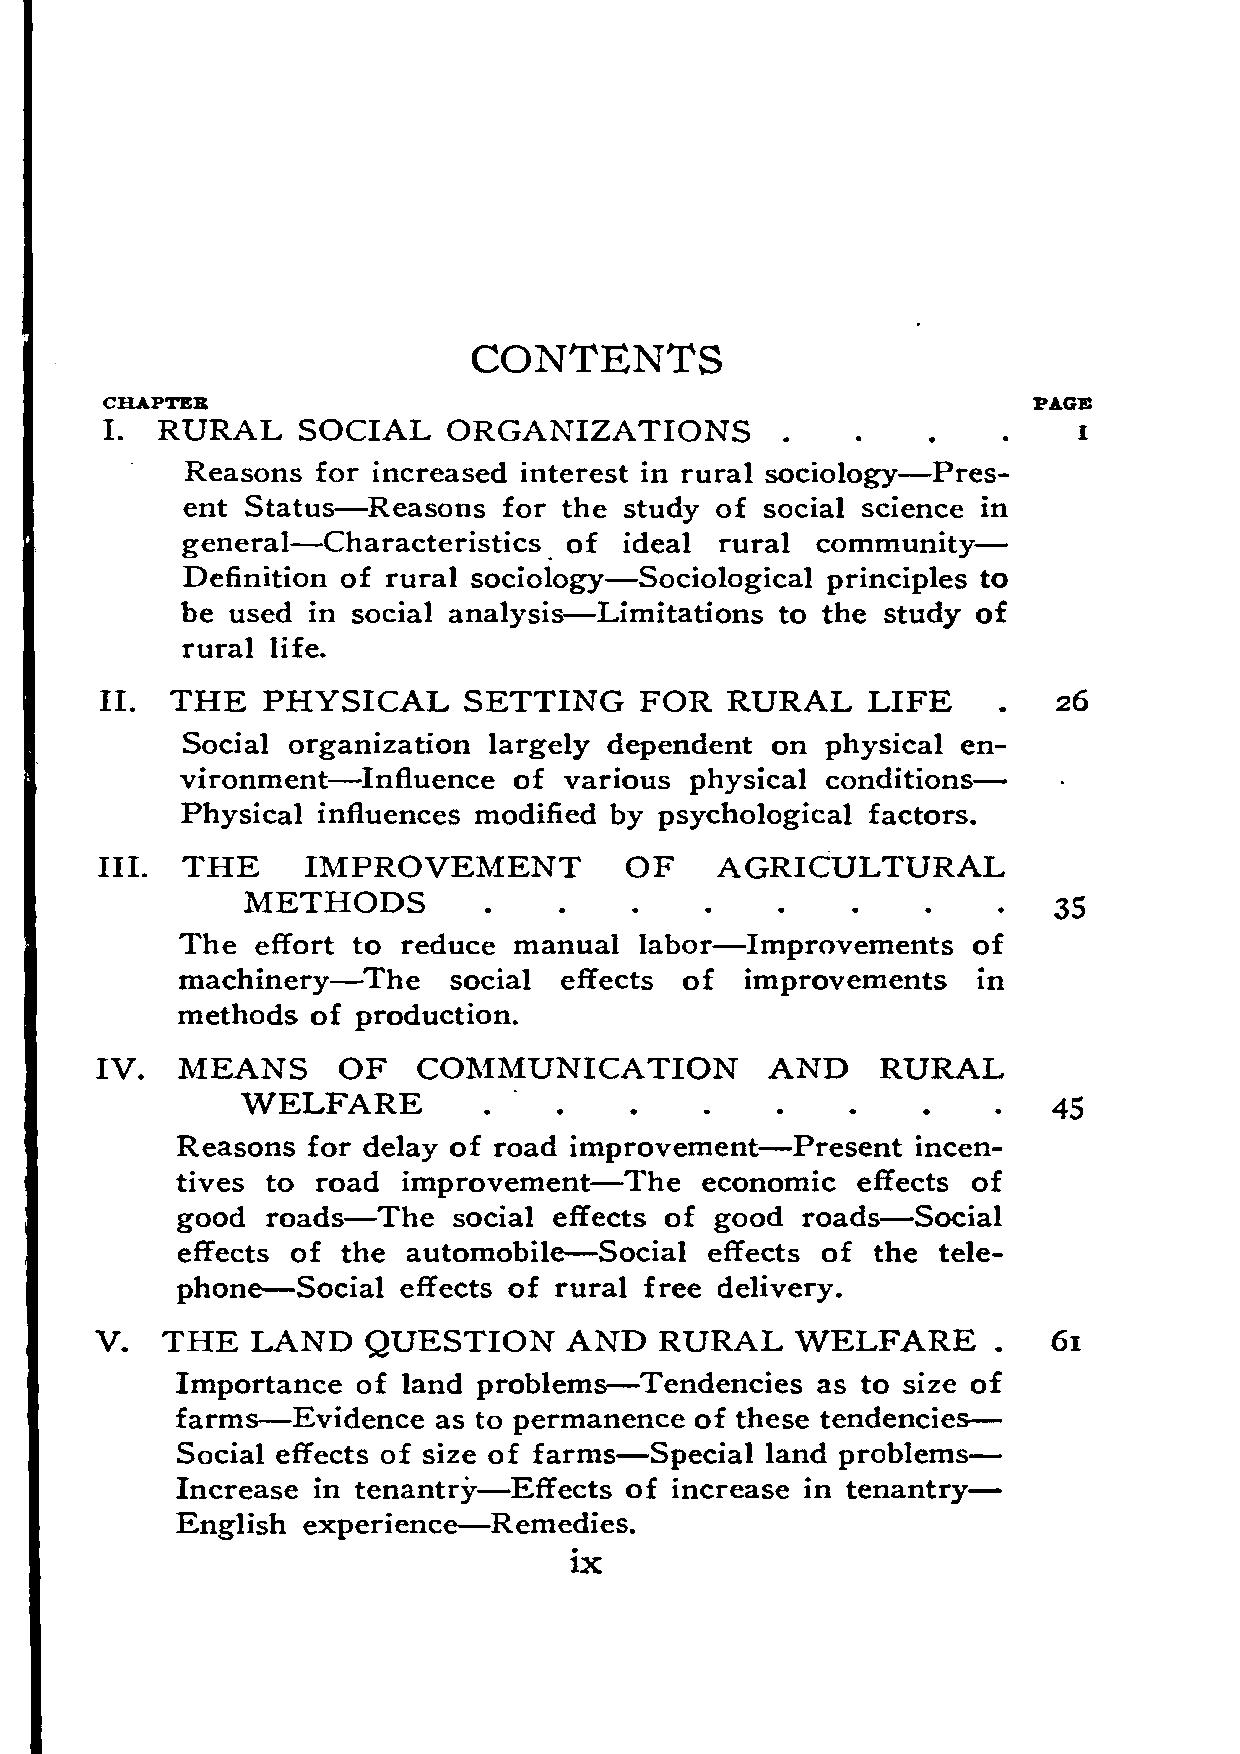TOC_chapter: (97, 1052, 1006, 1304), (105, 416, 1013, 664), (93, 1325, 1004, 1539), (97, 849, 1011, 1033), (97, 683, 1012, 833)
TOC_pagenumber: (1053, 680, 1090, 718), (1053, 890, 1087, 921), (1049, 1094, 1082, 1125), (1051, 1325, 1080, 1355), (1076, 421, 1090, 450)
chapter: (466, 342, 727, 376)
